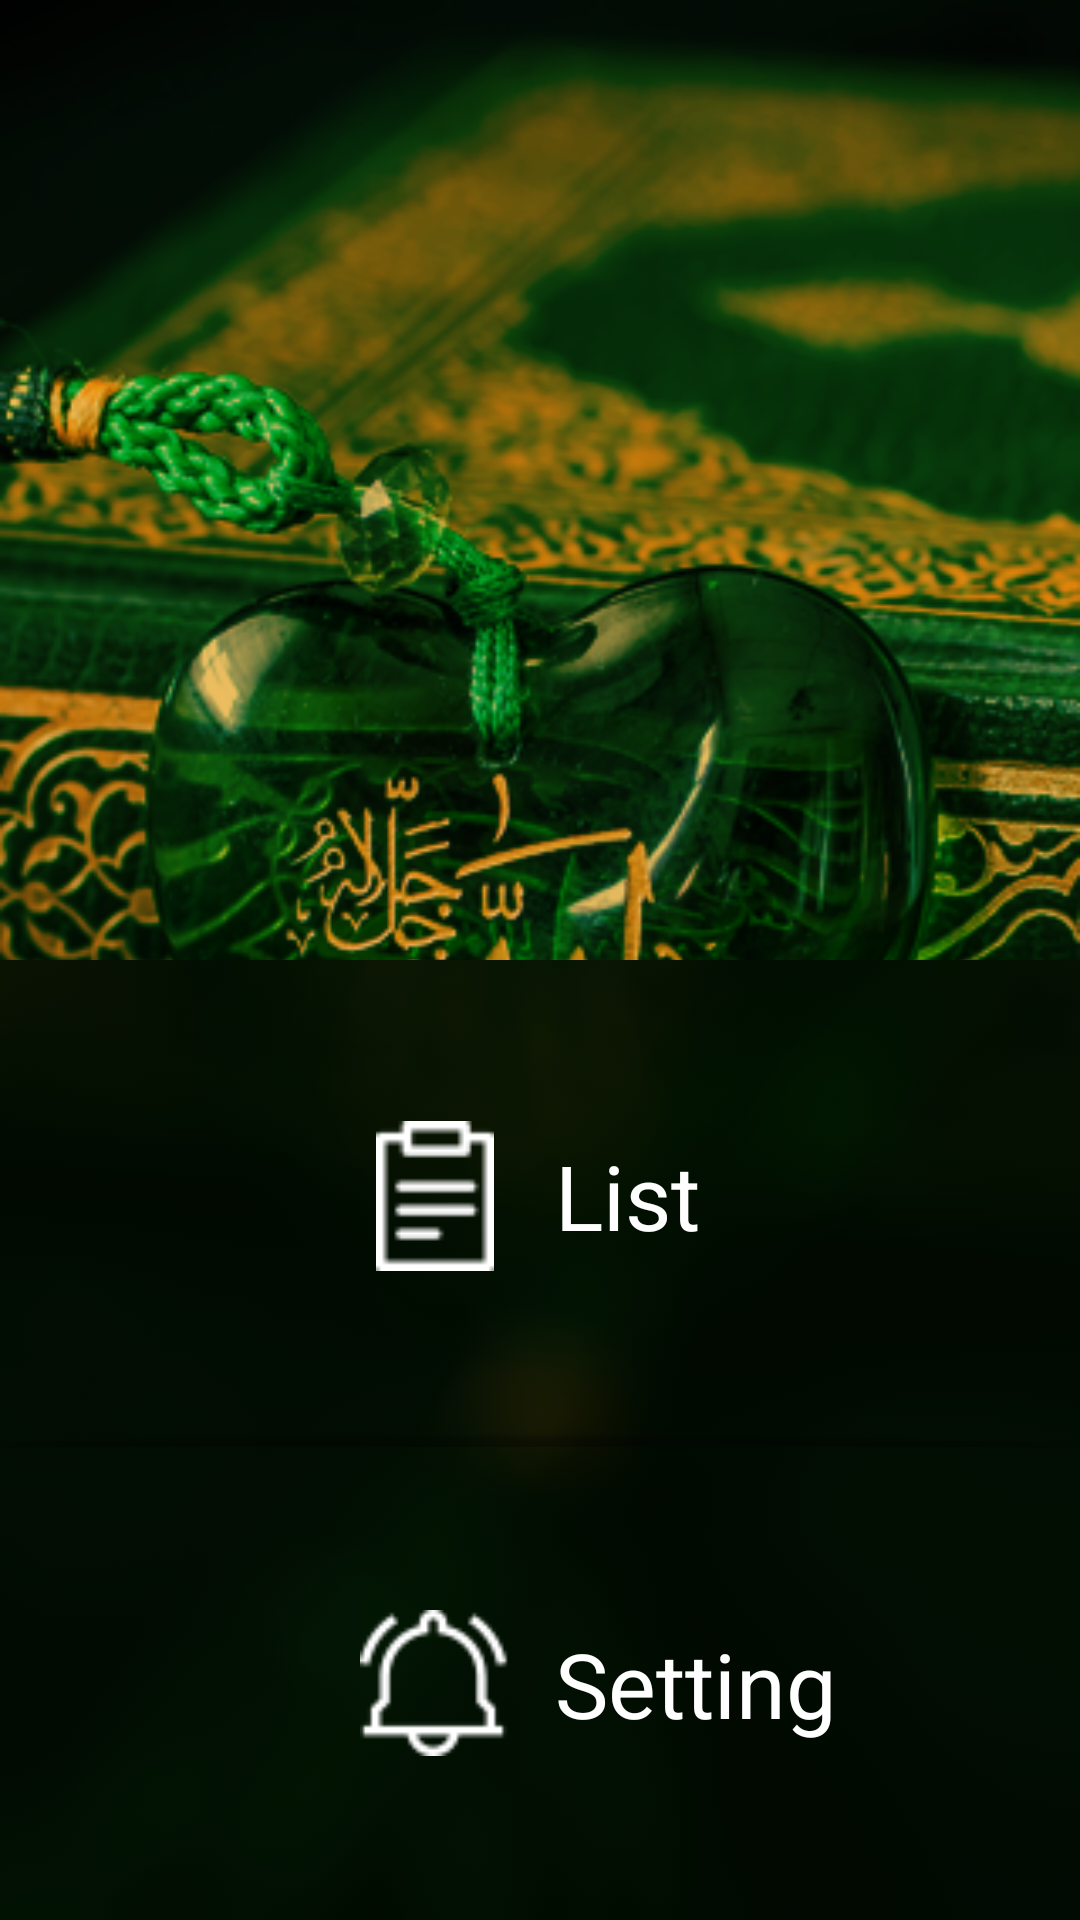

Where icons sit on this 1080px x 1920px app screen, as (x1, y1, x2, y2):
alarm: (360, 1610, 508, 1756)
